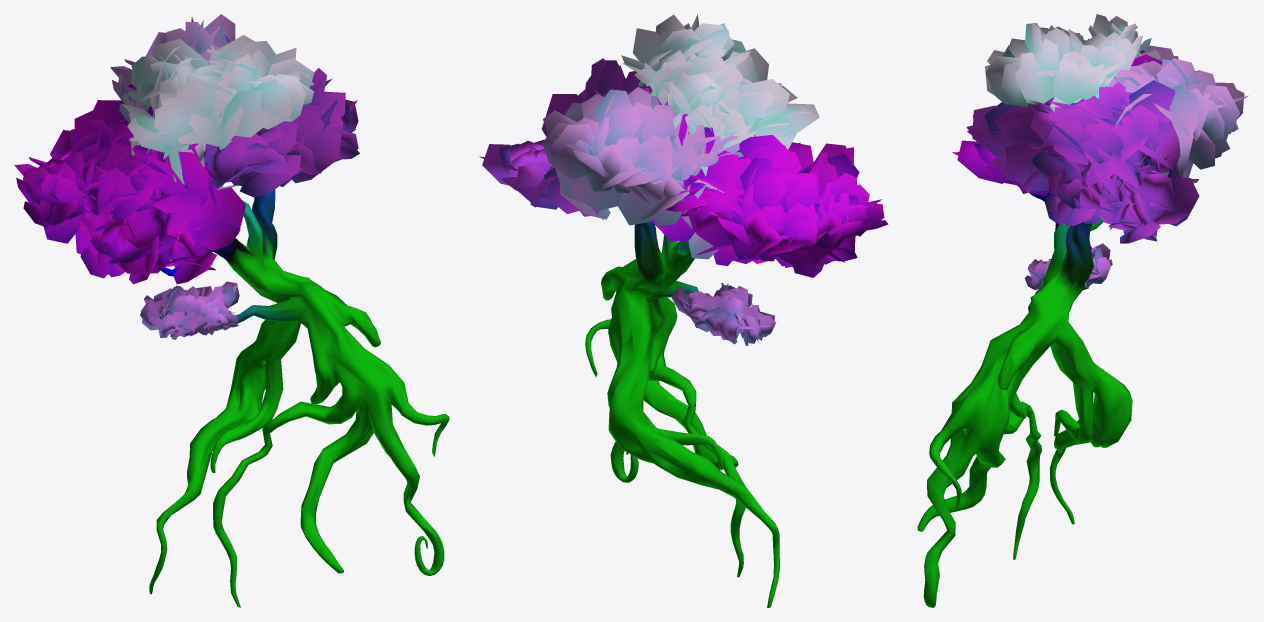
Rendered from M4_EntranceStructure_Tree_rock_06.fbx.
3 views of the same model, side by side, from view 1: azimuth 30°, elevation 25°; view 2: azimuth 150°, elevation 25°; view 3: azimuth 270°, elevation 25° (orthographic). The views are drawn at different scales.
Visible parts, largest first — view 1: SM_EntranceStructure_Tree_rock_06.mo; view 2: SM_EntranceStructure_Tree_rock_06.mo; view 3: SM_EntranceStructure_Tree_rock_06.mo.
Part boxes in pixels (bbox=[...]): SM_EntranceStructure_Tree_rock_06.mo: bbox=[14, 14, 449, 607]; SM_EntranceStructure_Tree_rock_06.mo: bbox=[479, 14, 888, 607]; SM_EntranceStructure_Tree_rock_06.mo: bbox=[917, 14, 1248, 607].
Size of the model in its own units: 3037 by 4329 by 2408.
